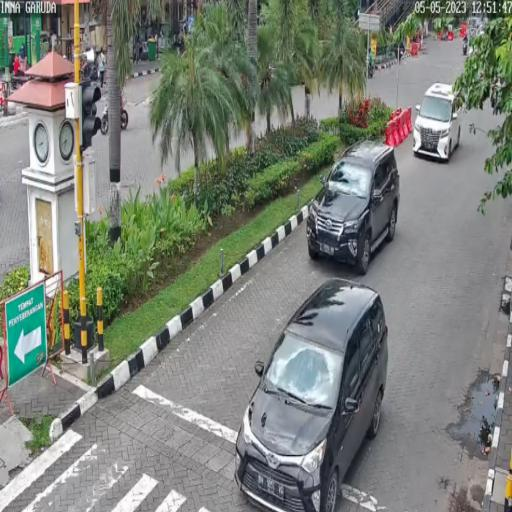mobil: (234, 282, 388, 512), (308, 140, 401, 273), (411, 82, 467, 166)
